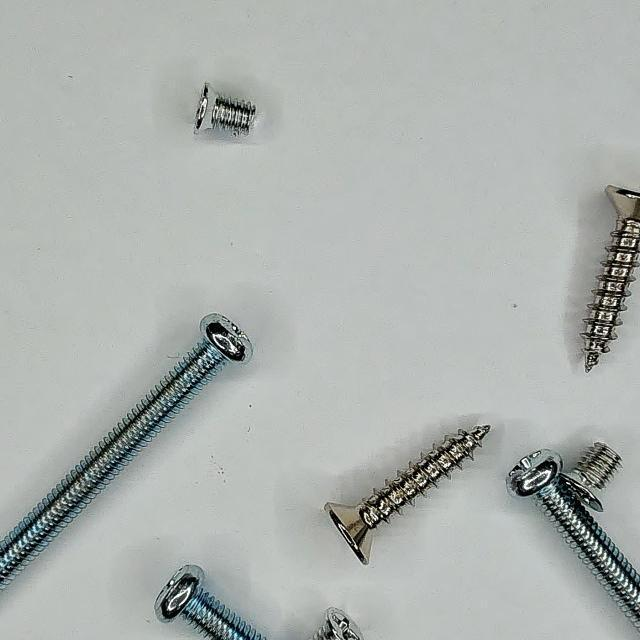Screw: (0, 314, 252, 590), (508, 443, 640, 630), (325, 426, 492, 566), (583, 185, 640, 372), (155, 566, 266, 640), (562, 443, 623, 512), (195, 82, 255, 134), (313, 609, 364, 640), (313, 609, 363, 640)
